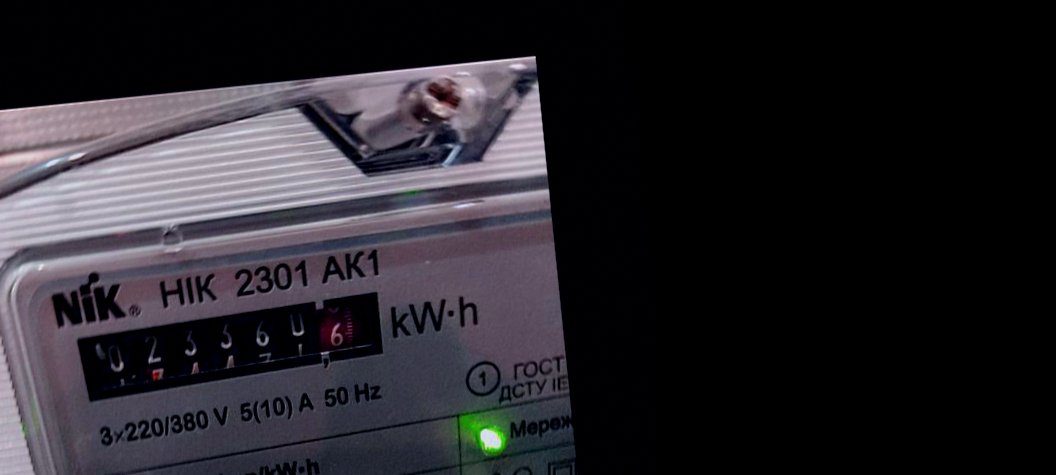0: (102, 340, 127, 376), (282, 308, 307, 341)
2: (140, 331, 163, 366)
3: (213, 317, 235, 352), (176, 327, 198, 360)
6: (248, 315, 272, 350), (324, 317, 348, 352)
screen: (57, 282, 403, 410)
